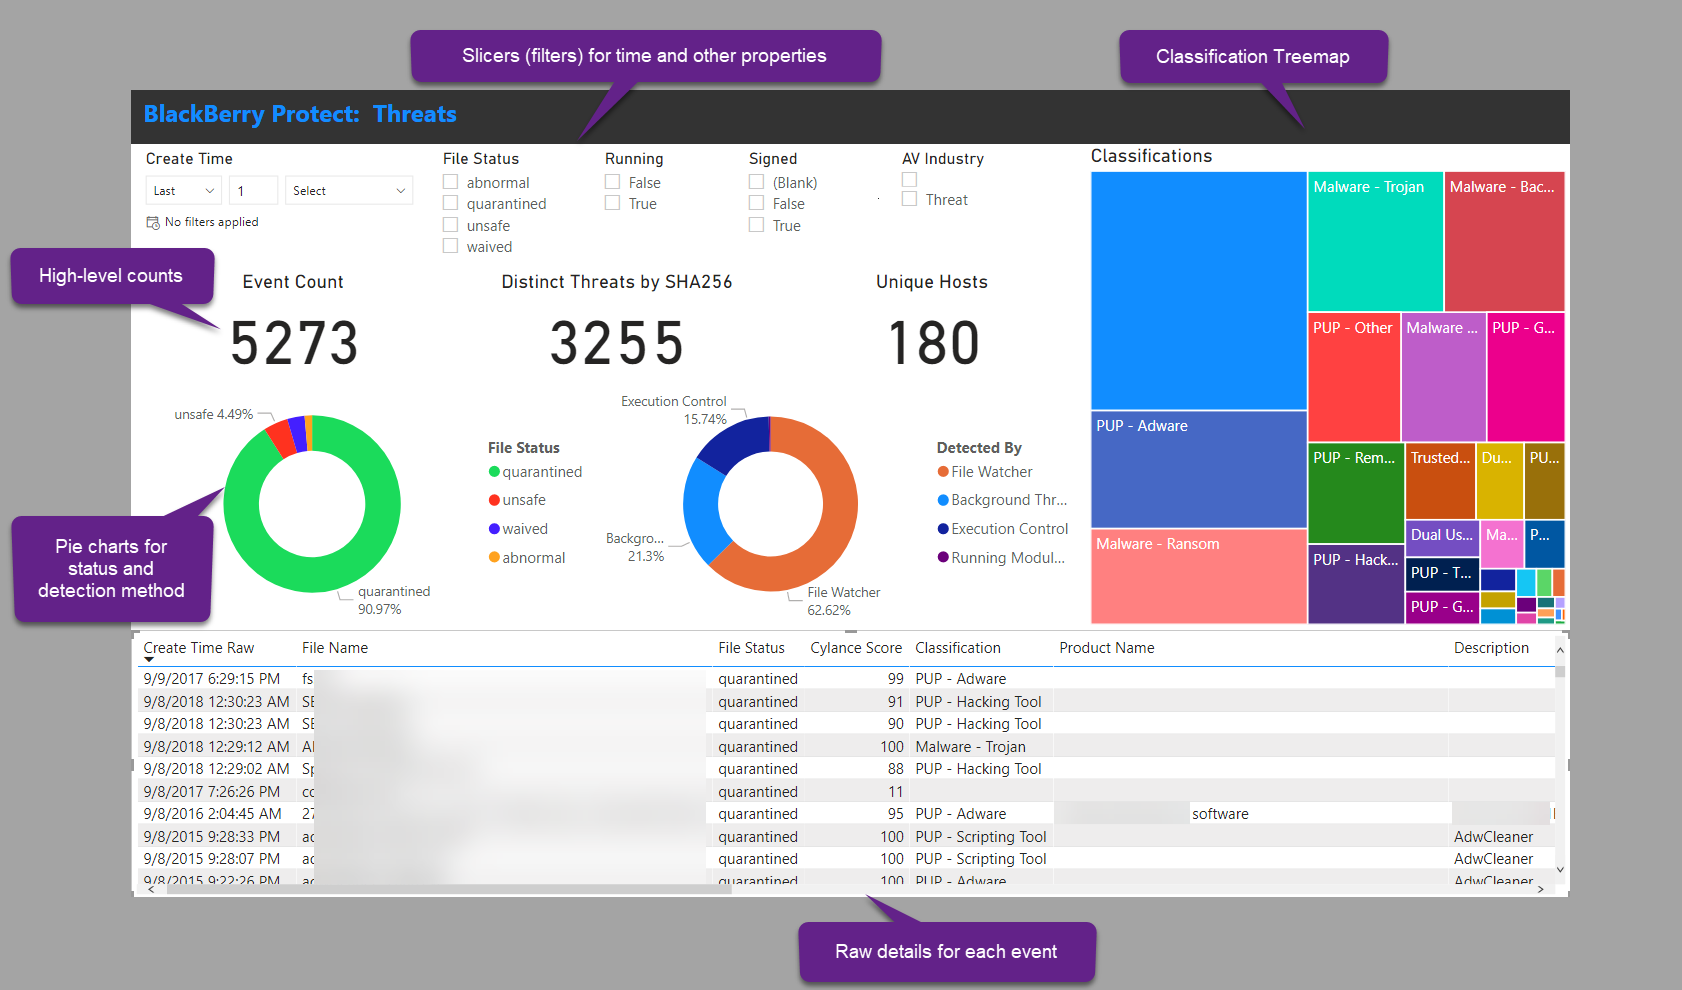

This screenshot's page, from the dashboard's own definition file:
{"tool":"powerbi","page":{"name":"Threats","canvas":[1280,720],"ordinal":1},"visuals":[{"type":"card","title":"Threat Count","fields":{"Values":["CountNonNull(ThreatsDataReport.File Name)"]},"box":[0,160,288,96],"z":0},{"type":"card","title":"Distinct Threats by SHA256","fields":{"Values":["Count(ThreatsDataReport.SHA256)"]},"box":[288,160,288,96],"z":1000},{"type":"textbox","box":[0,0,1280,48],"z":2000},{"type":"tableEx","fields":{"Values":["ThreatsDataReport.Create Time","ThreatsDataReport.DeviceName","ThreatsDataReport.File Name","ThreatsDataReport.File Status","ThreatsDataReport.Cylance Score","ThreatsDataReport.Classification","ThreatsDataReport.Product Name","ThreatsDataReport.Description","ThreatsDataReport.SHA256","ThreatsDataReport.MD5","ThreatsDataReport.Detected By","ThreatsDataReport.File Path"]},"box":[0,480,1280,240],"z":3000},{"type":"slicer","fields":{"Values":["ThreatsDataReport.Running"]},"box":[408,48,128,112],"z":4000},{"type":"slicer","fields":{"Values":["ThreatsDataReport.File Status"]},"box":[264,48,144,112],"z":5000},{"type":"slicer","fields":{"Values":["ThreatsDataReport.Create Time"]},"box":[0,48,264,112],"z":6000},{"type":"donutChart","fields":{"Category":["ThreatsDataReport.File Status"],"Y":["CountNonNull(ThreatsDataReport.File Status)"]},"box":[0,256,416,224],"z":7000},{"type":"donutChart","fields":{"Category":["ThreatsDataReport.Detected By"],"Y":["CountNonNull(ThreatsDataReport.Detected By)"]},"box":[416,256,432,224],"z":8000},{"type":"treemap","title":"Classifications","fields":{"Group":["ThreatsDataReport.Classification"],"Values":["CountNonNull(ThreatsDataReport.Classification)"]},"box":[848,48,432,432],"z":9000},{"type":"card","title":"Unique Hosts","fields":{"Values":["Count(ThreatsDataReport.DeviceName)"]},"box":[576,160,272,96],"z":10000},{"type":"slicer","fields":{"Values":["ThreatsDataReport.Signed"]},"box":[536,48,128,112],"z":11000},{"type":"slicer","fields":{"Values":["ThreatsDataReport.AV Industry"]},"box":[672,48,176,112],"z":12000},{"type":"image","box":[0,0,48,48],"z":13000}]}

Visuals, with their boxes on the page's 1280x720 design canvas (x1, y1, x2, y2). These are canvas units, not pixel positions in the 1682x990 screenshot, which may show the page scaled, cropped or inside an application window:
"Threat Count" card: bbox=[0, 160, 288, 256]
"Distinct Threats by SHA256" card: bbox=[288, 160, 576, 256]
textbox: bbox=[0, 0, 1280, 48]
tableEx - ThreatsDataReport.Create Time x ThreatsDataReport.DeviceName: bbox=[0, 480, 1280, 720]
slicer - ThreatsDataReport.Running: bbox=[408, 48, 536, 160]
slicer - ThreatsDataReport.File Status: bbox=[264, 48, 408, 160]
slicer - ThreatsDataReport.Create Time: bbox=[0, 48, 264, 160]
donutChart - ThreatsDataReport.File Status x CountNonNull(ThreatsDataReport.File Status): bbox=[0, 256, 416, 480]
donutChart - ThreatsDataReport.Detected By x CountNonNull(ThreatsDataReport.Detected By): bbox=[416, 256, 848, 480]
"Classifications" treemap: bbox=[848, 48, 1280, 480]
"Unique Hosts" card: bbox=[576, 160, 848, 256]
slicer - ThreatsDataReport.Signed: bbox=[536, 48, 664, 160]
slicer - ThreatsDataReport.AV Industry: bbox=[672, 48, 848, 160]
image: bbox=[0, 0, 48, 48]
